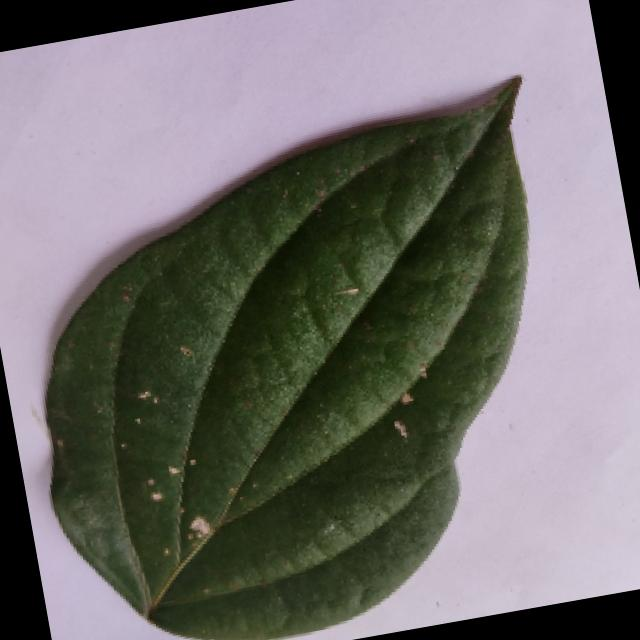pollu-disease: (0, 85, 602, 640)
